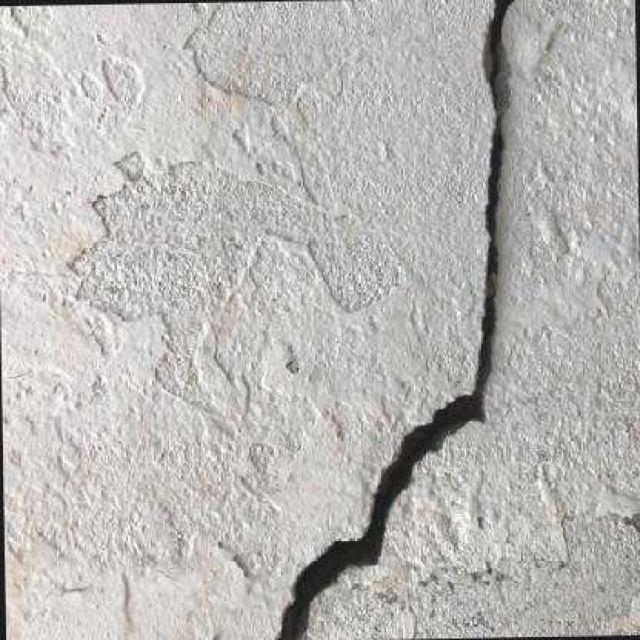D00: (270, 0, 517, 640)
